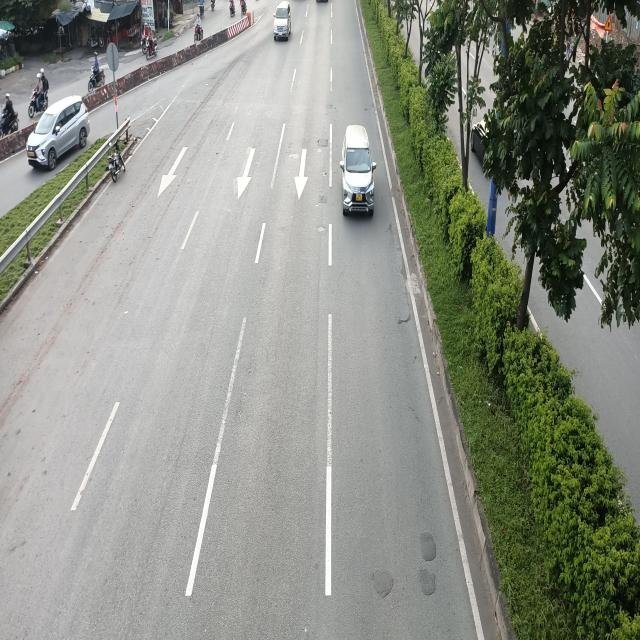car: (26, 94, 89, 166), (341, 124, 376, 216), (272, 3, 292, 42)
